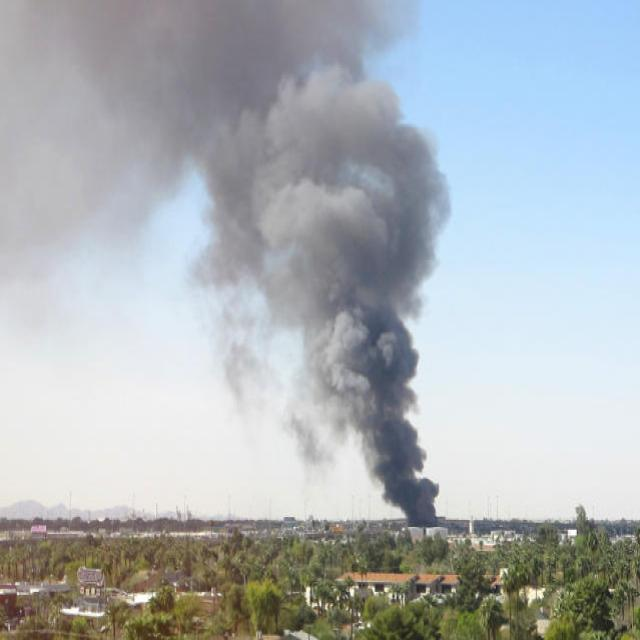Smoke: (185, 0, 446, 529)
